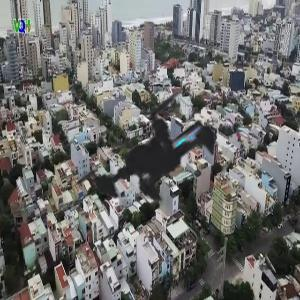drone: (36, 39, 292, 295)
